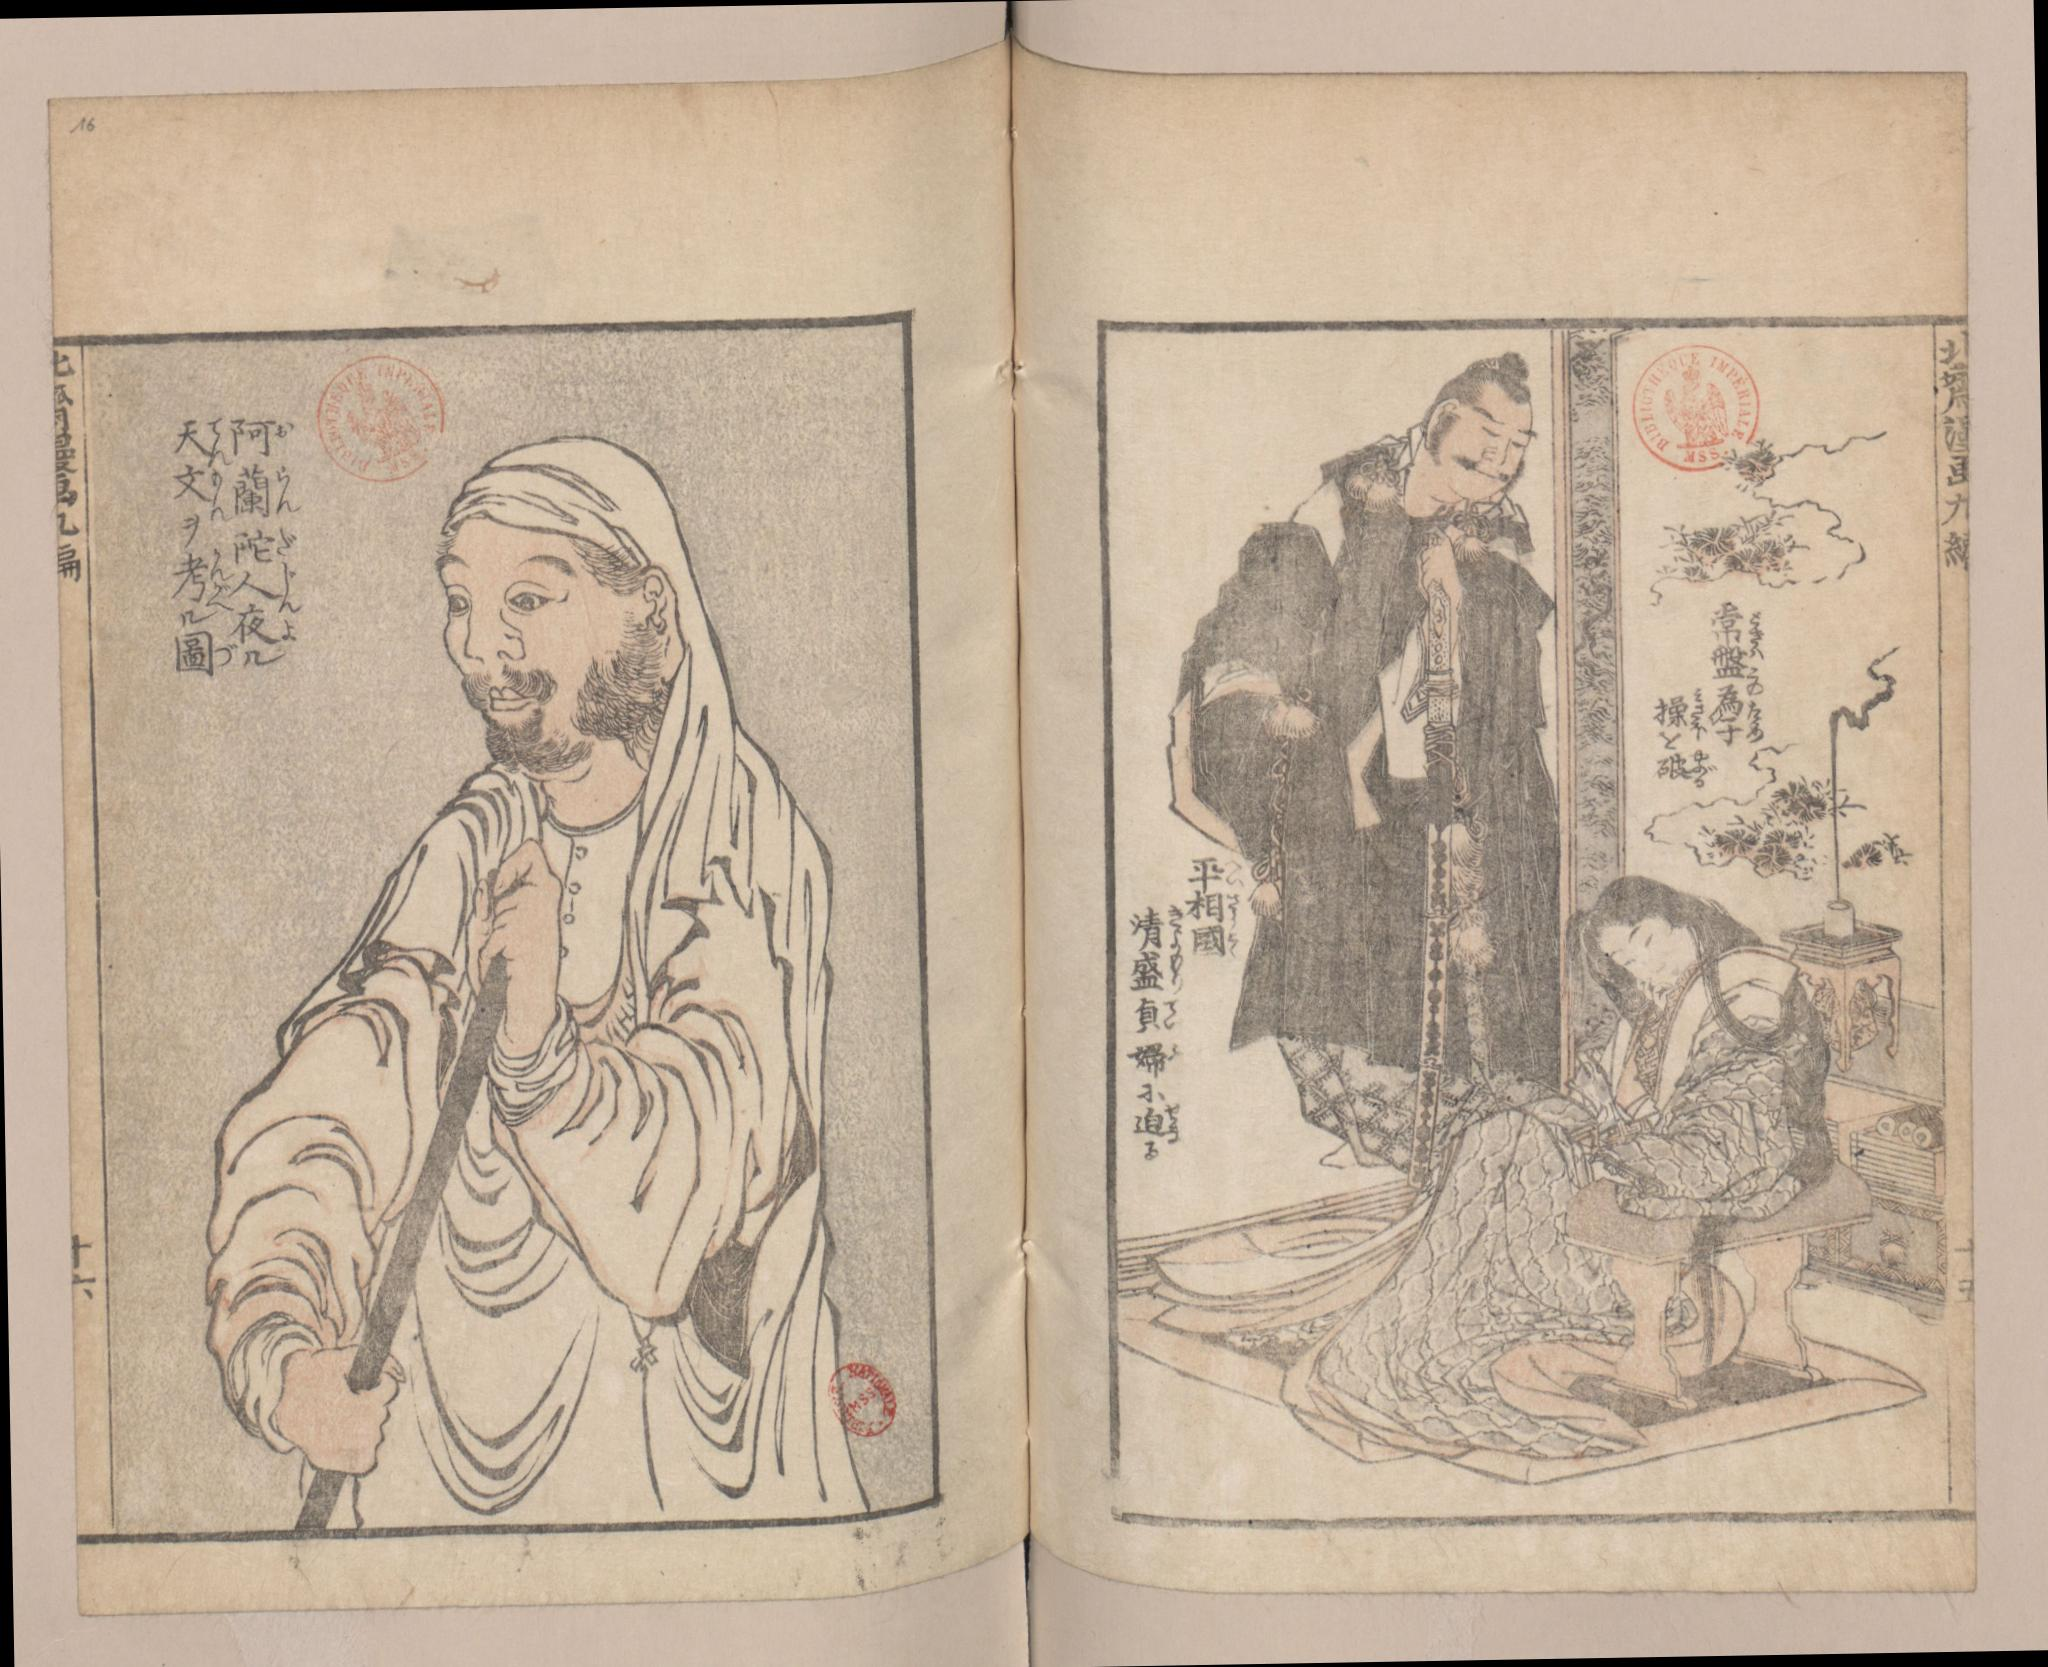MainZone-Character: (1704, 687, 1774, 742), (231, 463, 299, 517), (172, 551, 231, 611), (231, 566, 308, 611), (230, 410, 296, 458), (175, 466, 230, 524), (167, 631, 233, 677), (1129, 1036, 1191, 1082), (1713, 646, 1769, 696), (1129, 949, 1187, 997), (175, 413, 228, 464), (1655, 747, 1720, 788), (1655, 684, 1706, 735), (231, 522, 299, 560), (231, 611, 304, 645), (1131, 1104, 1187, 1145), (1710, 602, 1764, 643), (1182, 854, 1247, 888), (1133, 907, 1182, 949), (1191, 924, 1245, 961), (1131, 998, 1186, 1036), (1187, 891, 1245, 920)
MainZone-Ruby: (206, 551, 231, 607), (276, 463, 301, 514), (1747, 645, 1769, 696), (279, 566, 303, 612), (206, 469, 226, 521), (204, 417, 226, 461), (1691, 750, 1718, 786), (1163, 949, 1186, 992), (213, 641, 240, 670), (1749, 703, 1766, 747), (1165, 907, 1182, 949), (1749, 604, 1767, 641), (274, 524, 296, 555), (1163, 1102, 1180, 1141), (1692, 687, 1706, 735), (274, 413, 294, 441), (279, 617, 299, 643), (1225, 925, 1242, 956), (1225, 859, 1243, 886), (1167, 1041, 1186, 1068), (1158, 1000, 1177, 1026), (1226, 893, 1242, 920)
